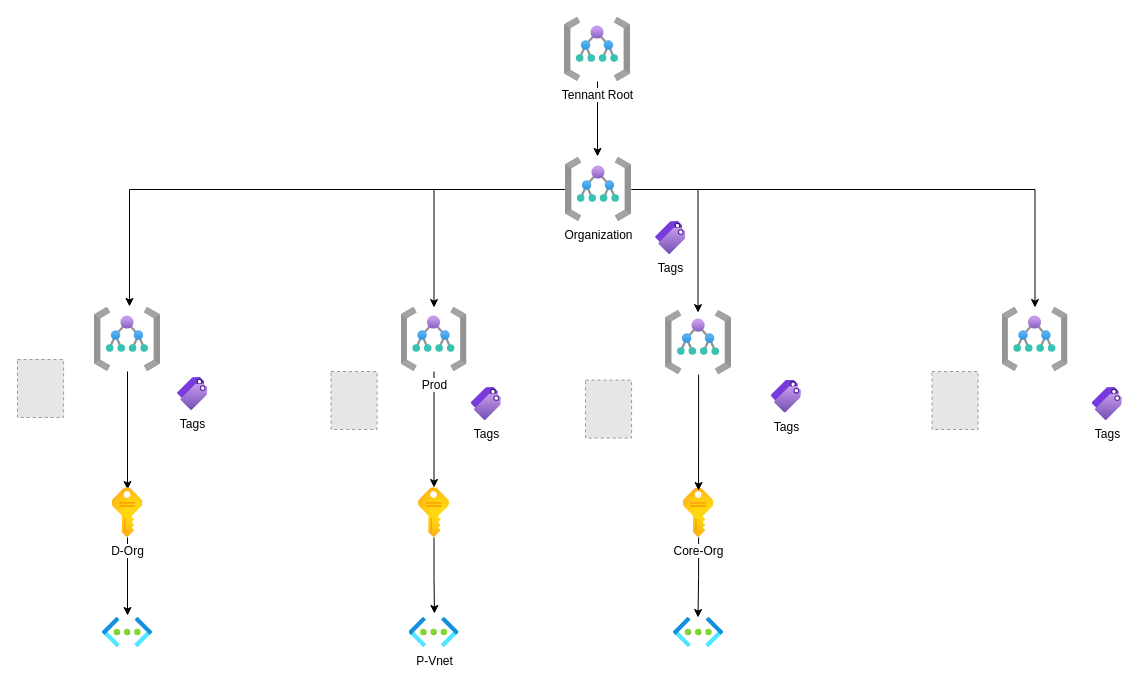
This 1140x685 diagram has some shape labels left out. Grey dashed boxes stand in for pictures. Each missing label, with the box of its shape:
Core-Vnet: (673, 617, 723, 647)
D-Vnet: (102, 617, 152, 647)
Default: (1002, 307, 1068, 371)
Dev: (94, 307, 160, 371)
P-Org: (418, 487, 449, 537)
Platform: (665, 310, 731, 374)
